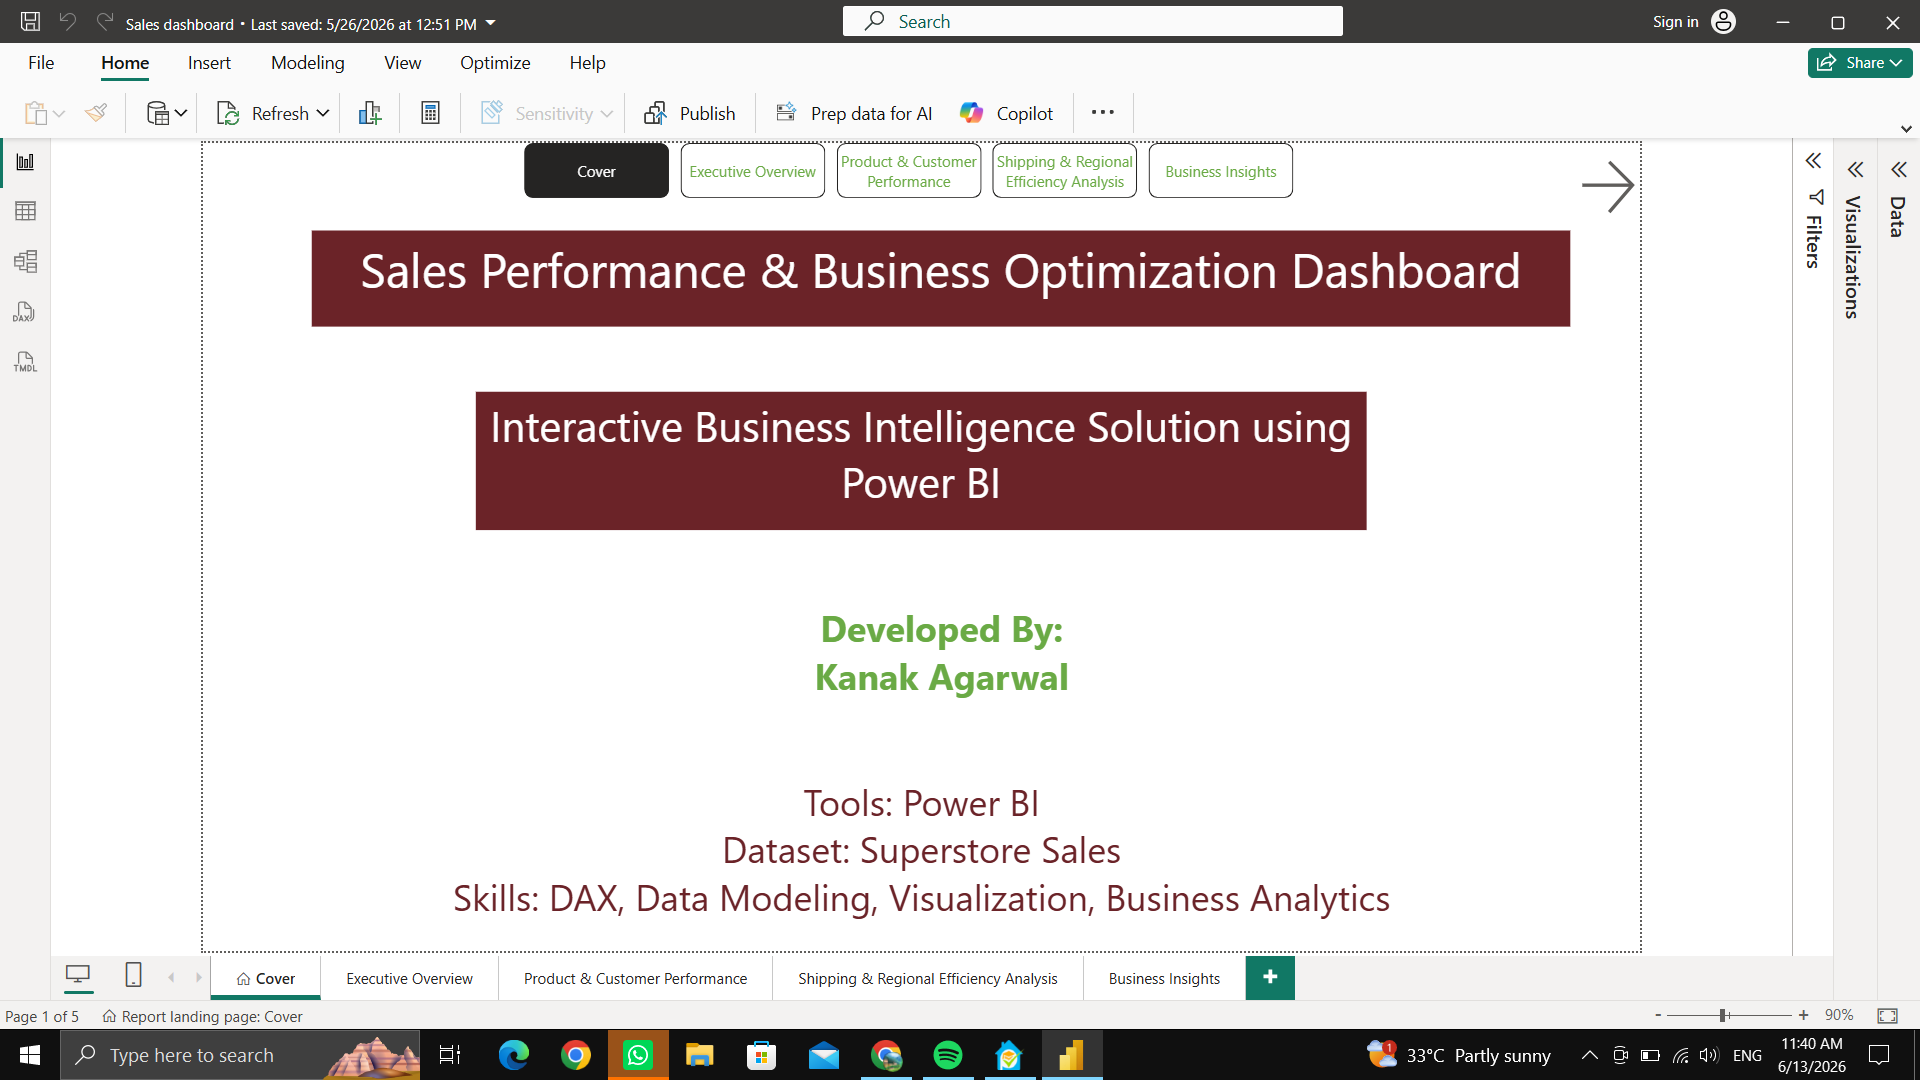

This screenshot's page, from the dashboard's own definition file:
{"tool":"powerbi","page":{"name":"Cover","canvas":[1280,720],"ordinal":0},"visuals":[{"type":"textbox","box":[96.5,78.4,1120.8,85.7],"z":0},{"type":"textbox","box":[242.5,222,793.8,123.1],"z":1000},{"type":"textbox","box":[0,559.8,1280,149.6],"z":2000},{"type":"textbox","box":[96.5,405.4,1122,131.5],"z":3000},{"type":"textbox","box":[92,222,150,150],"z":4000},{"type":"actionButton","box":[1220.9,0,59.1,78.4],"z":4001},{"type":"pageNavigator","box":[285.9,0,688.9,49.5],"z":4002}]}

Visuals, with their boxes on the page's 1280x720 design canvas (x1, y1, x2, y2). These are canvas units, not pixel positions in the 1920x1080 screenshot, which may show the page scaled, cropped or inside an application window:
textbox: (96, 78, 1217, 164)
textbox: (242, 222, 1036, 345)
textbox: (0, 560, 1280, 709)
textbox: (96, 405, 1218, 537)
textbox: (92, 222, 242, 372)
actionButton: (1221, 0, 1280, 78)
pageNavigator: (286, 0, 975, 50)
